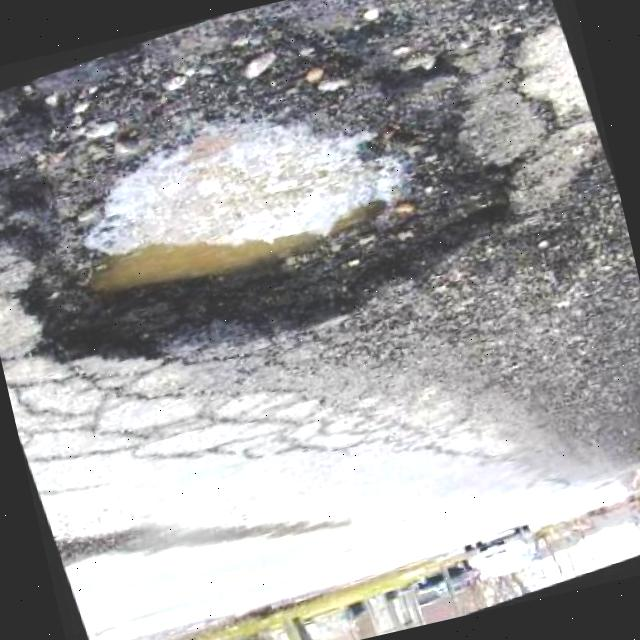pothole: (0, 0, 633, 401)
